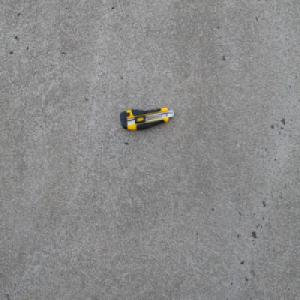Cutter: (119, 107, 174, 131)
